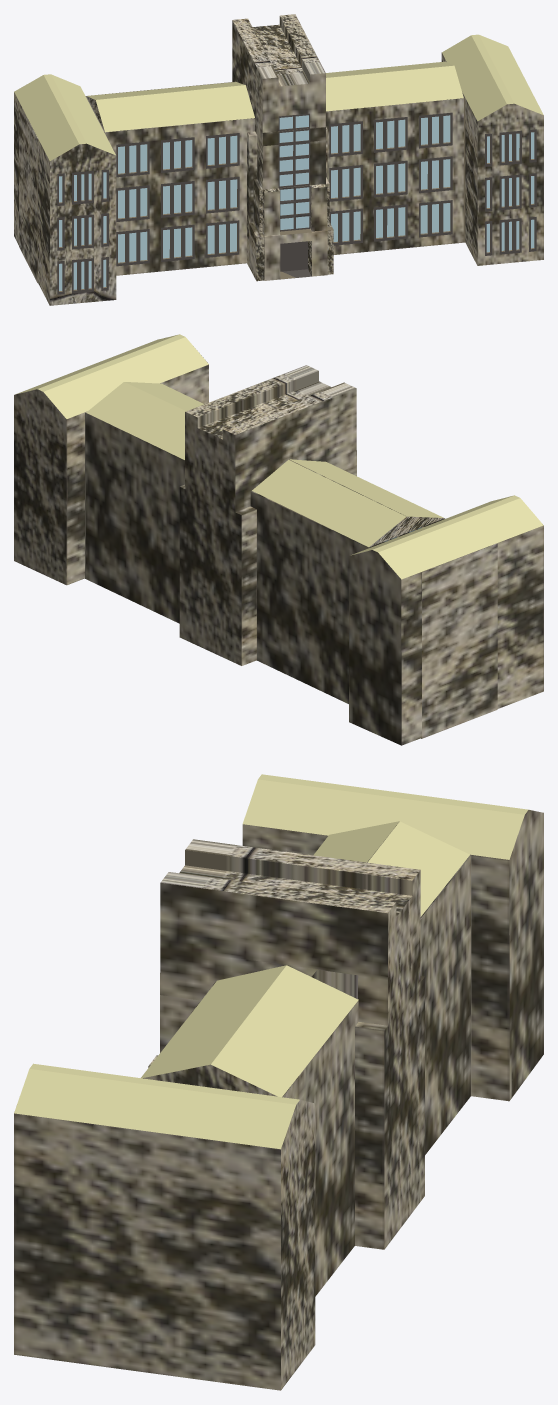
File: dgu(FLIPPED).fbx
The picture shows the model from 3 angles, top to bottom: view 1: azimuth 30°, elevation 25°; view 2: azimuth 150°, elevation 25°; view 3: azimuth 270°, elevation 25°; orthographic projection. The views are drawn at different scales.
Parts seen in each view (by area): view 1: 평면.002; view 2: 평면.002; view 3: 평면.002.
Part boxes in pixels (x1=…): 평면.002: x1=14, y1=14, x2=543, y2=305; 평면.002: x1=14, y1=334, x2=543, y2=745; 평면.002: x1=14, y1=774, x2=543, y2=1390.
Size of the model in its own units: 16609 by 6896 by 9918.
